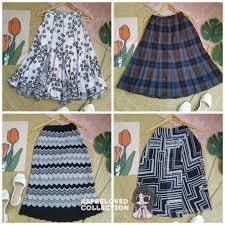skirt: (7, 9, 113, 108), (115, 13, 225, 102), (126, 122, 221, 220), (17, 124, 106, 219)
